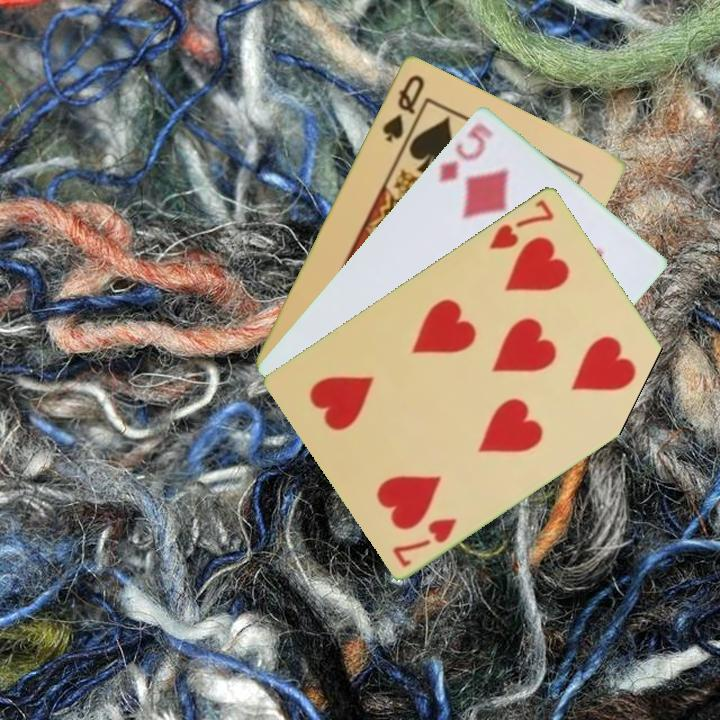5d: (434, 118, 496, 186)
7h: (485, 195, 557, 252), (389, 513, 460, 570)
Qs: (378, 70, 427, 145)
